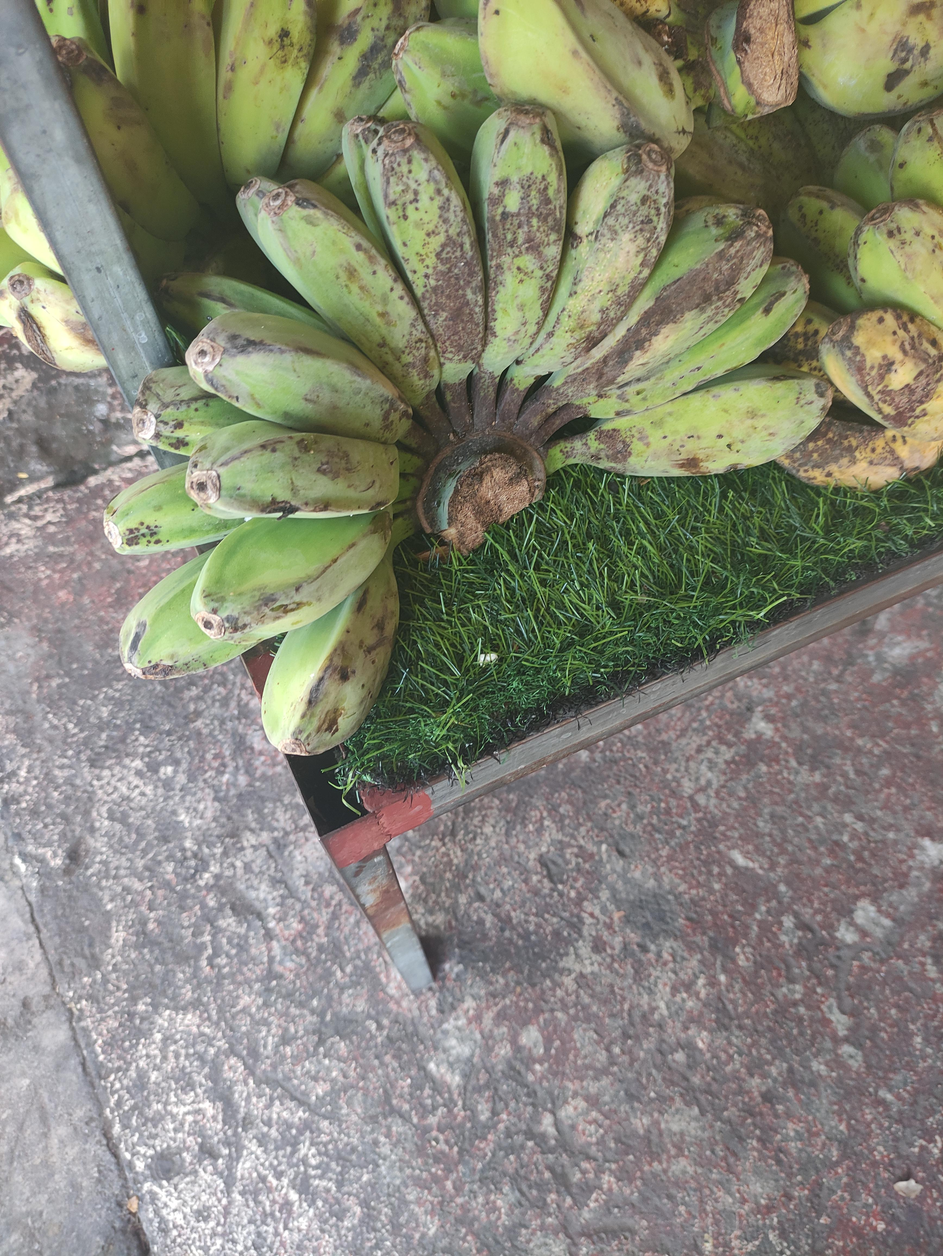underripe: (104, 104, 832, 755), (34, 0, 476, 289), (764, 106, 943, 489), (393, 0, 692, 193)
